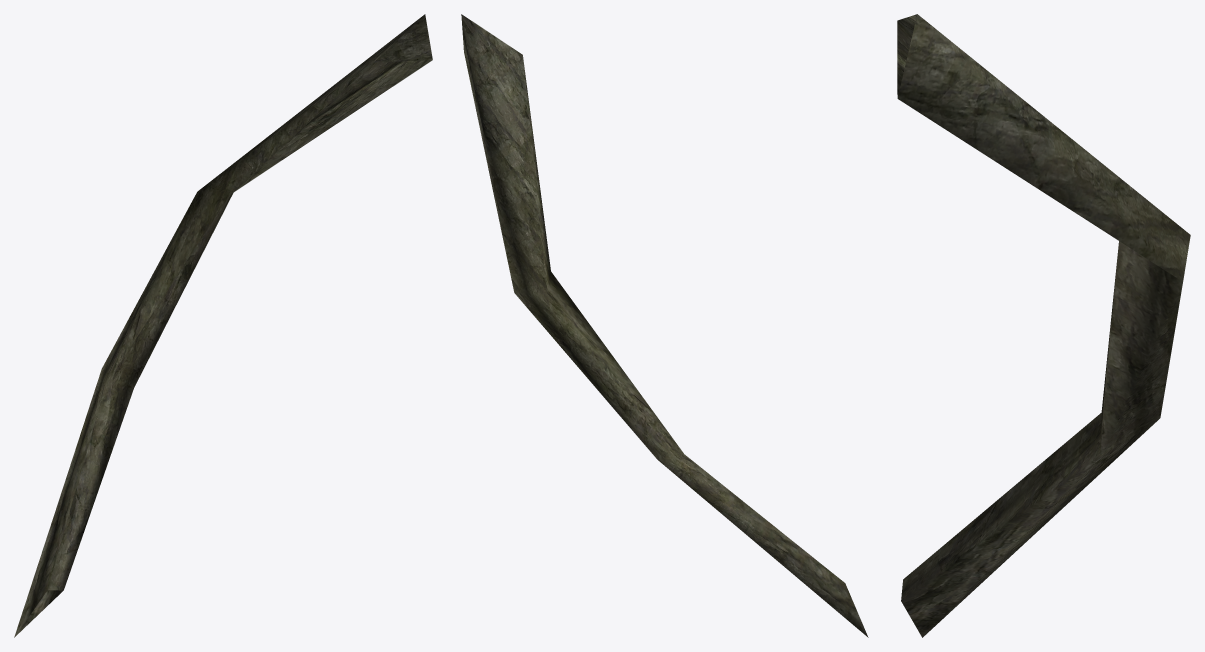
The picture shows the model from 3 angles, left to right: view 1: azimuth 30°, elevation 25°; view 2: azimuth 150°, elevation 25°; view 3: azimuth 270°, elevation 25°; orthographic projection. The views are drawn at different scales.
Visible parts, largest first — view 1: TI_Root_01; view 2: TI_Root_01; view 3: TI_Root_01.
Boxes of the visible parts, box(x1,y1,x2,y2) form: TI_Root_01: box(14, 14, 432, 637); TI_Root_01: box(461, 14, 868, 637); TI_Root_01: box(897, 14, 1190, 637).
Bounding box in the file's own units: 1.88 × 2.28 × 0.6028.
